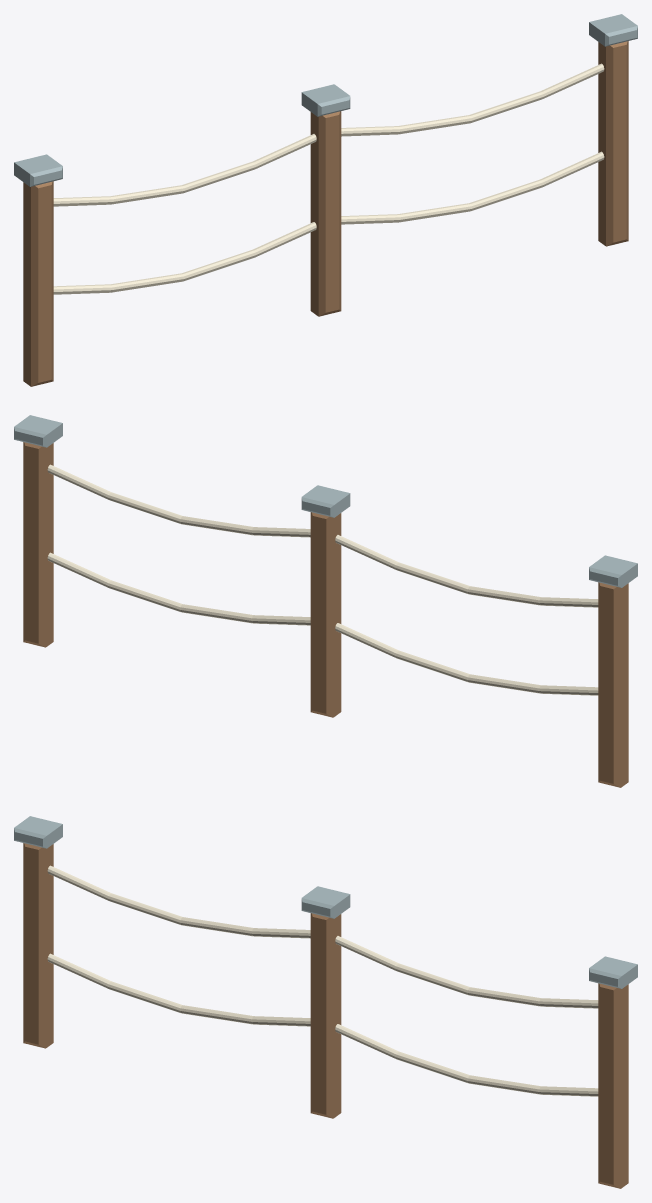
The model's file is harbor-and-tackle-pier-railing-79e66c86.glb.
3 renders of one model, top to bottom at view 1: azimuth 30°, elevation 25°; view 2: azimuth 150°, elevation 25°; view 3: azimuth 330°, elevation 25°, orthographic.
Visible parts, largest first — view 1: cedar, ivory, metal; view 2: cedar, ivory, metal; view 3: cedar, ivory, metal.
Boxes of the visible parts, x1,y1,x2,y2 form: cedar: (23, 41, 628, 386); ivory: (53, 63, 604, 294); metal: (14, 14, 637, 186); cedar: (23, 442, 628, 787); ivory: (47, 464, 598, 695); metal: (14, 415, 637, 587); cedar: (23, 843, 628, 1188); ivory: (47, 865, 598, 1096); metal: (14, 816, 637, 988).
Bounding box in the file's own units: 2.96 × 1.01 × 0.1601.
